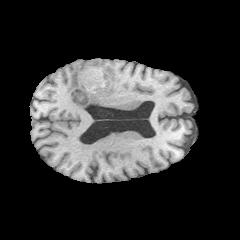glioma: (67, 61, 121, 108)
